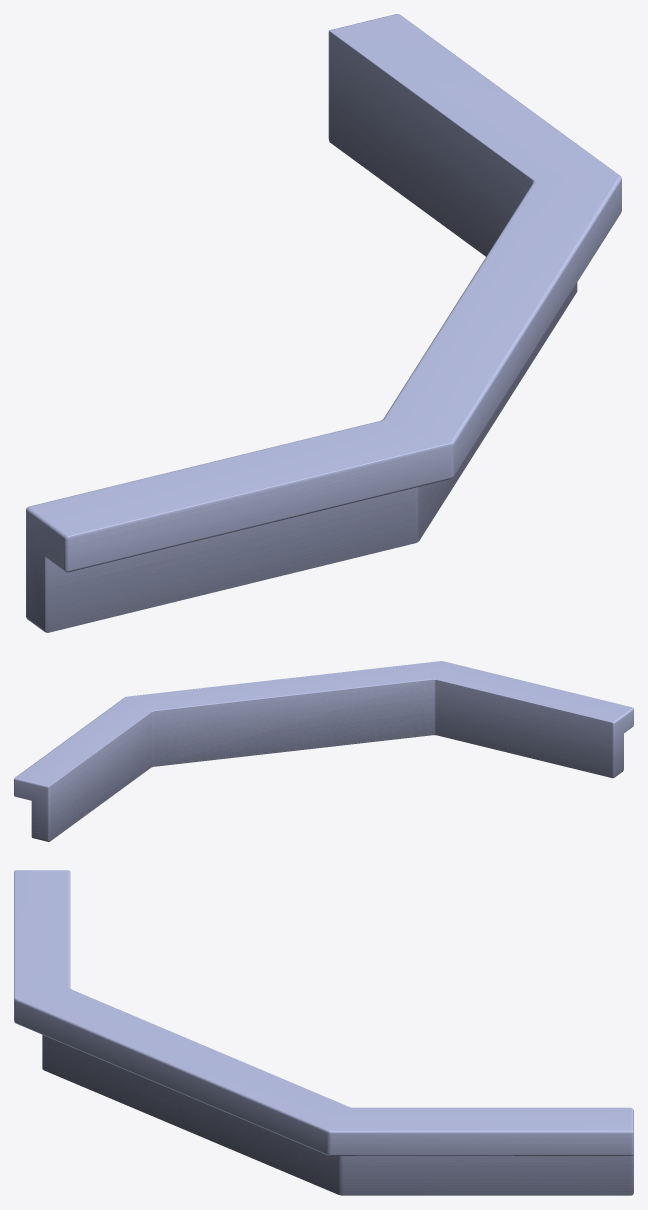
Rendered from border-corner-diagonal.glb.
3 views of the same model, one above another, from view 1: azimuth 30°, elevation 25°; view 2: azimuth 150°, elevation 25°; view 3: azimuth 270°, elevation 25° (orthographic). The views are drawn at different scales.
Visible parts, largest first — view 1: border-corner-diagonal; view 2: border-corner-diagonal; view 3: border-corner-diagonal.
Boxes of the visible parts, x1=… form: border-corner-diagonal: x1=26, y1=14, x2=621, y2=632; border-corner-diagonal: x1=14, y1=661, x2=633, y2=841; border-corner-diagonal: x1=14, y1=870, x2=633, y2=1195.
Bounding box in the file's own units: 2.2 × 0.3 × 2.2.
1 material, 1 textured.
